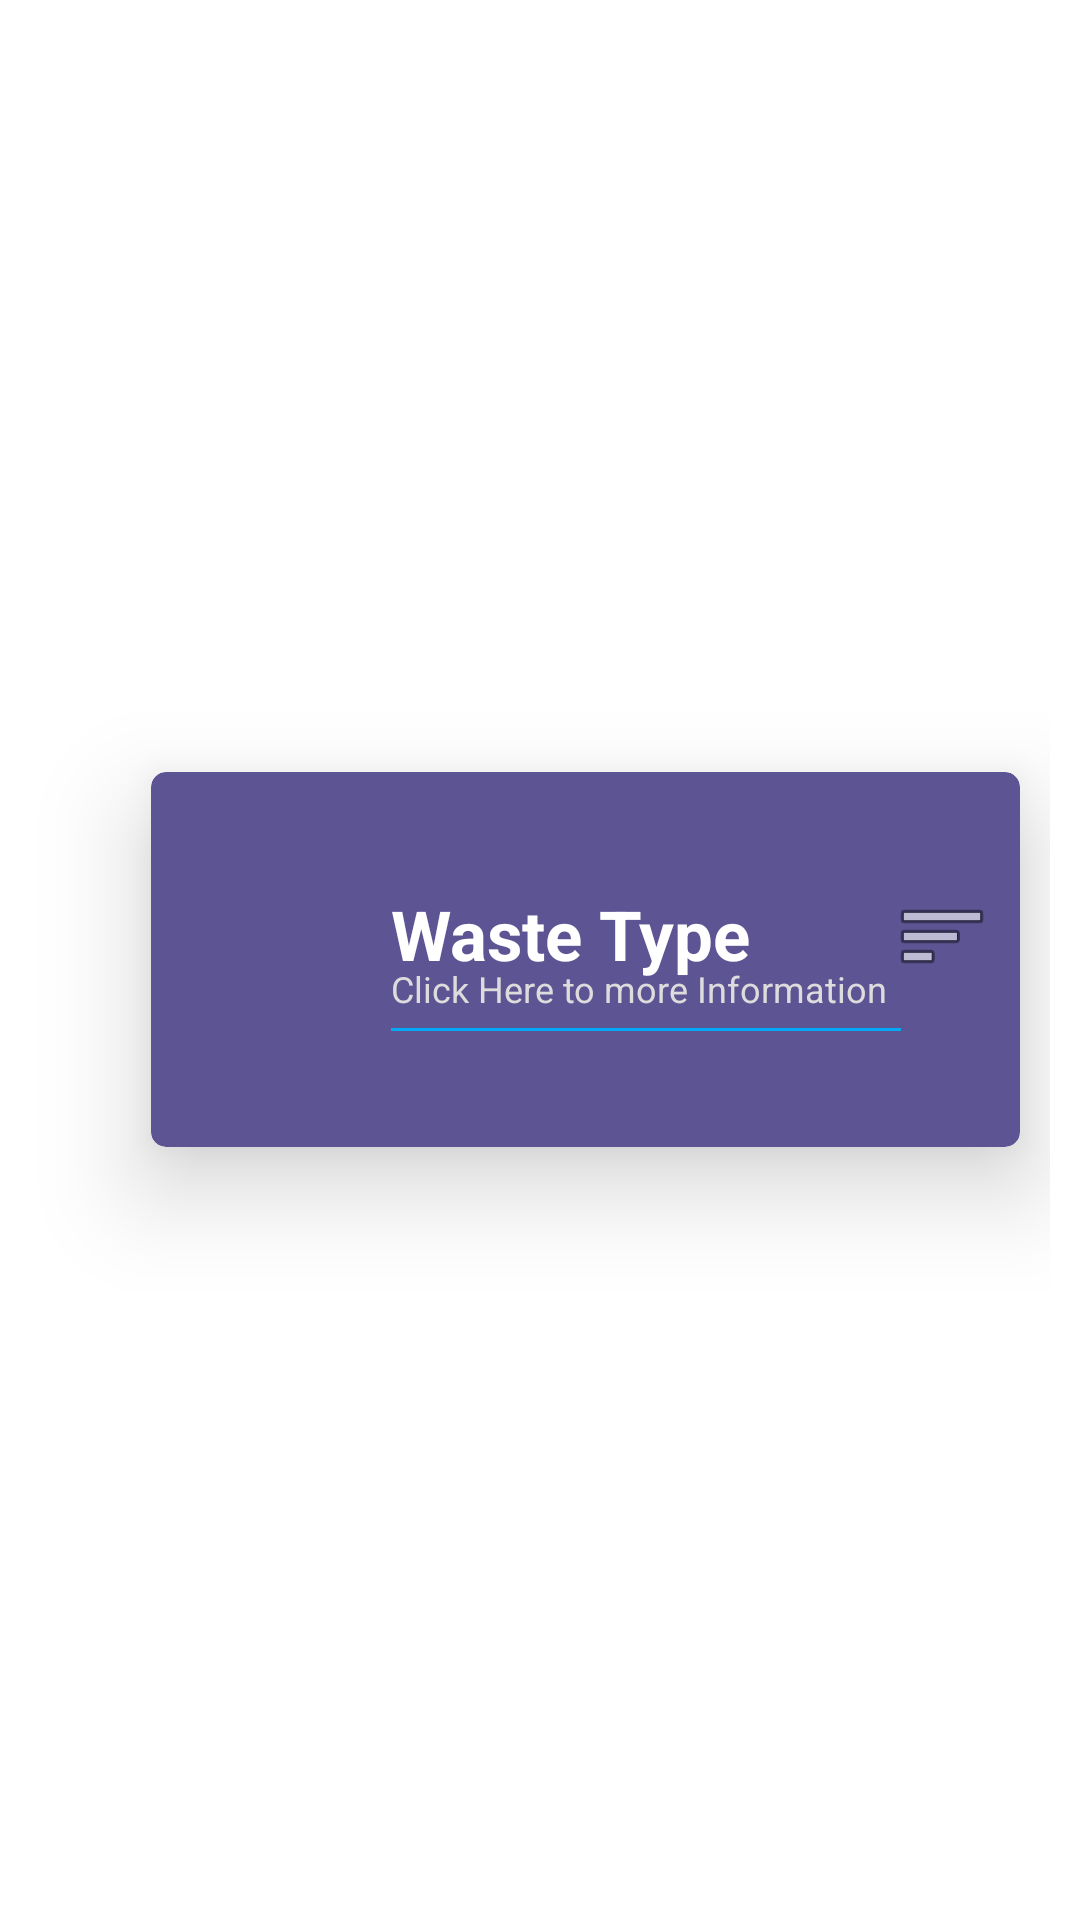

Locate icon controls on the screen. Image size 1080px x 1920px, boxes as detection(x1, y1, x2, y2).
sort by size: detection(901, 910, 983, 963)
